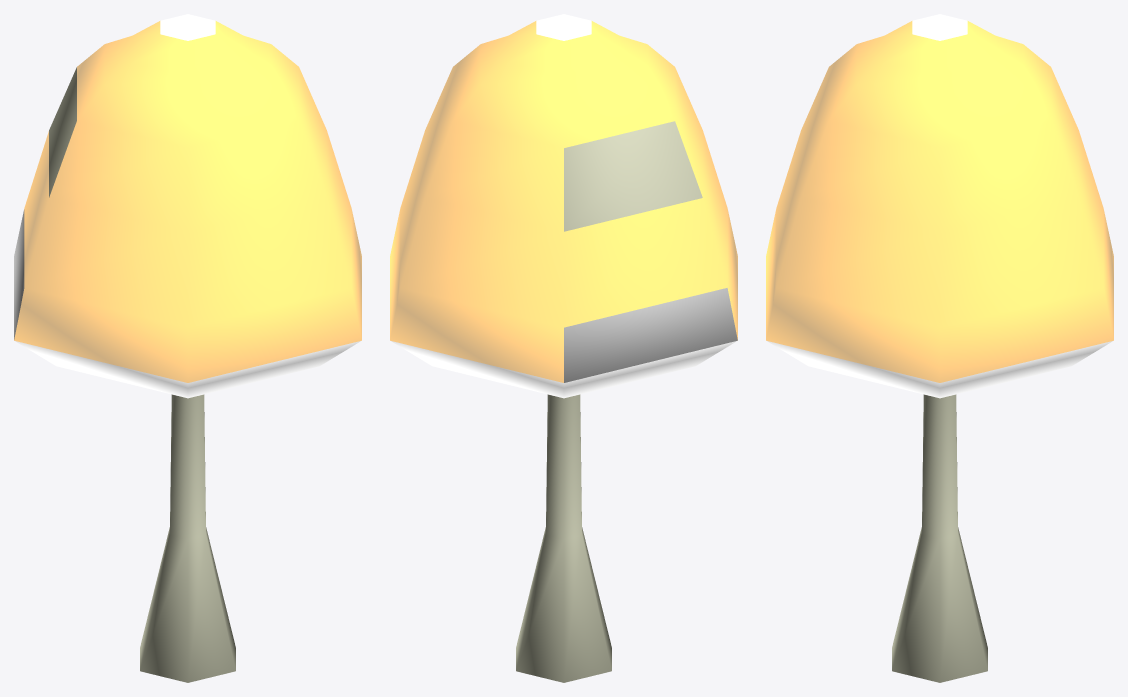
The model's file is KF_tall_mushroom1.glb.
3 views of the same model, side by side, from view 1: azimuth 30°, elevation 25°; view 2: azimuth 150°, elevation 25°; view 3: azimuth 270°, elevation 25° (orthographic).
Visible parts, largest first — view 1: tall_mushroom; view 2: tall_mushroom; view 3: tall_mushroom.
Boxes of the visible parts, x1,y1,x2,y2 form: tall_mushroom: (14, 14, 361, 682); tall_mushroom: (390, 14, 737, 682); tall_mushroom: (766, 14, 1113, 682).
Size of the model in its own units: 3.52 by 6.11 by 3.05.
